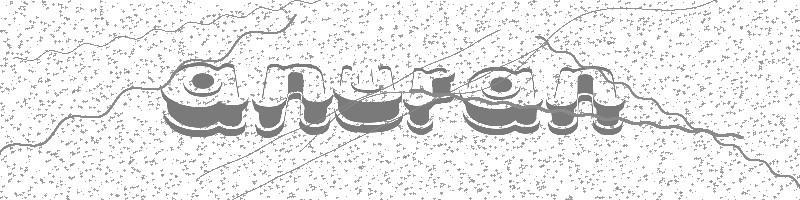a: (162, 61, 250, 137), (461, 67, 544, 134)
n: (253, 63, 334, 138), (546, 67, 626, 136)
r: (405, 68, 455, 133)
u: (335, 65, 403, 132)
